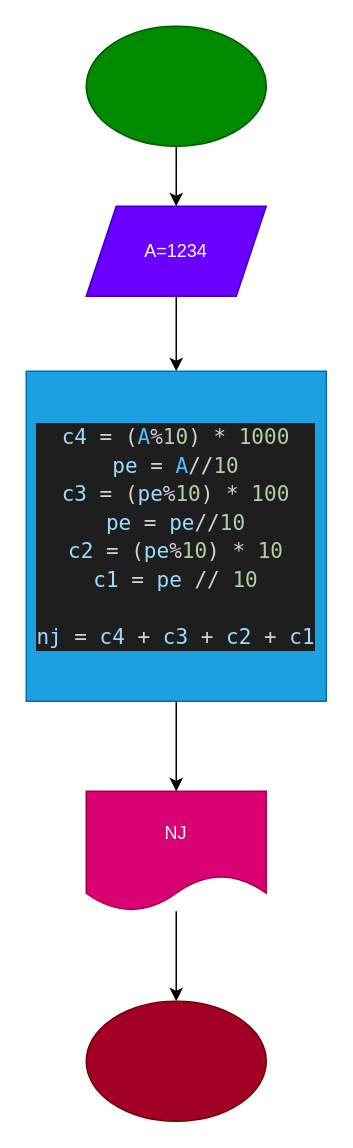
Image size: 353x1148. Some labels were removed from this diagram. The shapes that lost their labels are listed below. From the top down, each one's centre as x and y in pixels, then its label:
At point (175, 85): "INICIO".
At point (175, 1060): "FIN".
